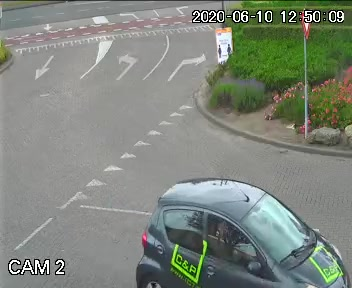car: (124, 173, 352, 288)
